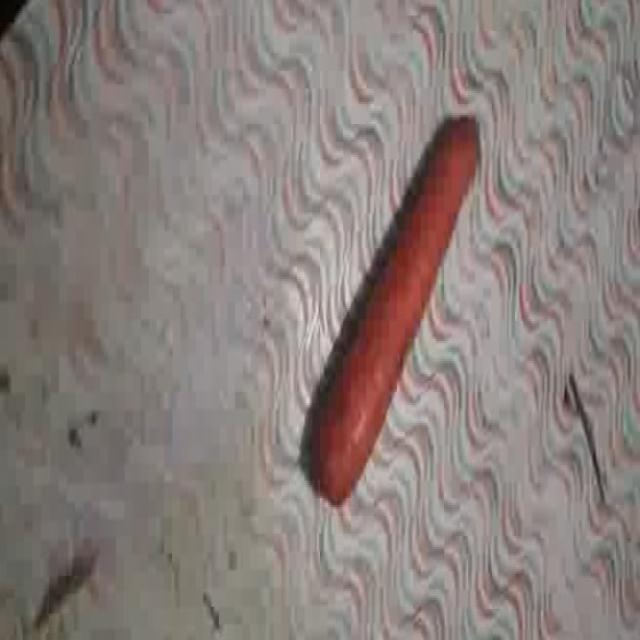carrot: (300, 118, 479, 503)
